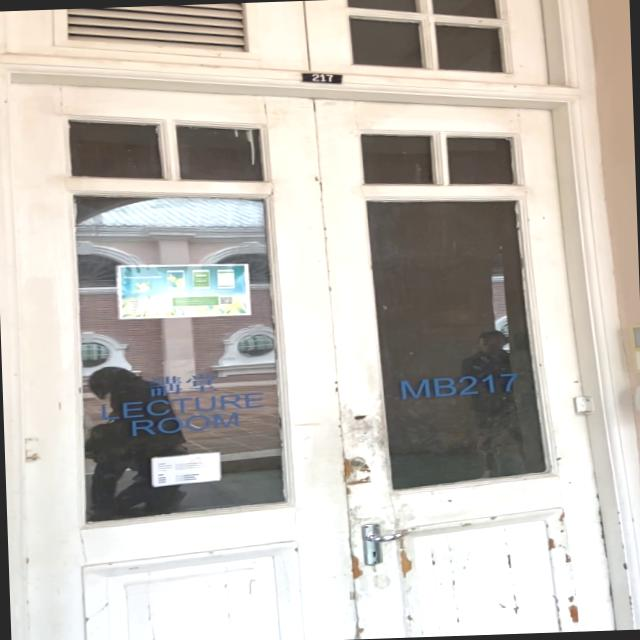room217: (299, 70, 344, 85)
room217Window: (392, 368, 526, 401)
